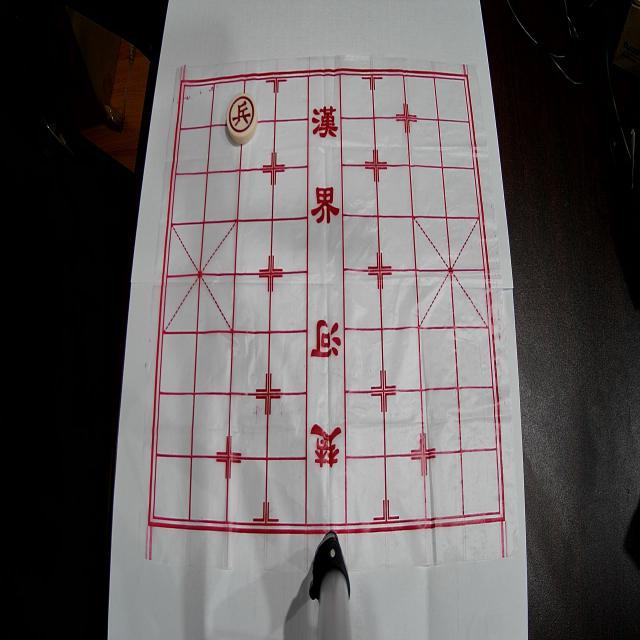red-soldier: (226, 93, 258, 144)
